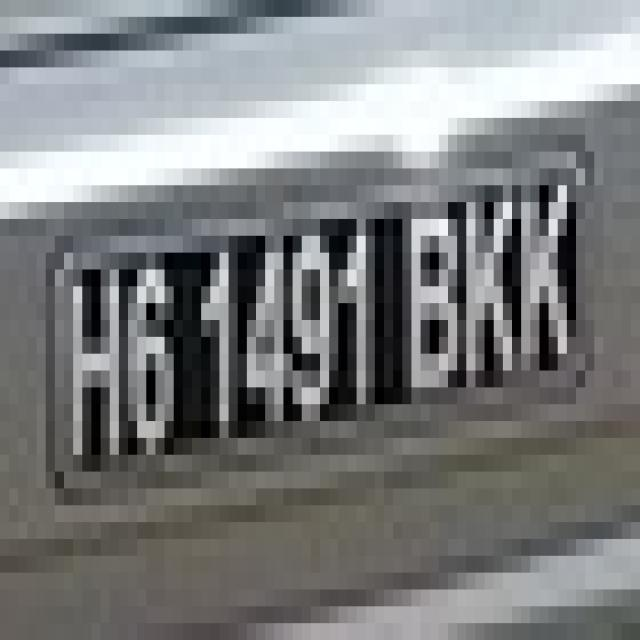licenseplate: (32, 85, 594, 538)
